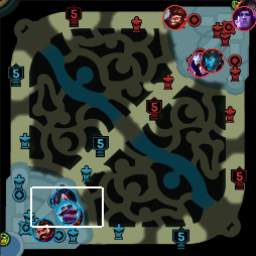akali: (53, 188, 77, 210)
braum: (57, 201, 79, 224)
graves: (32, 218, 54, 241)
kalista: (199, 47, 224, 72)
monkeyking: (161, 4, 187, 29)
talon: (187, 51, 211, 76)
taric: (231, 6, 256, 30)
